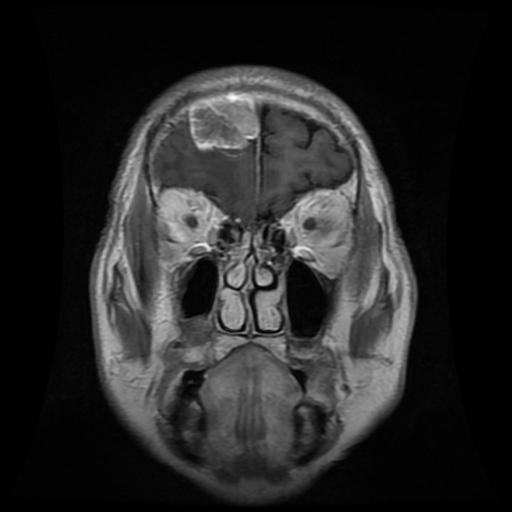meningioma: (189, 101, 261, 151)
